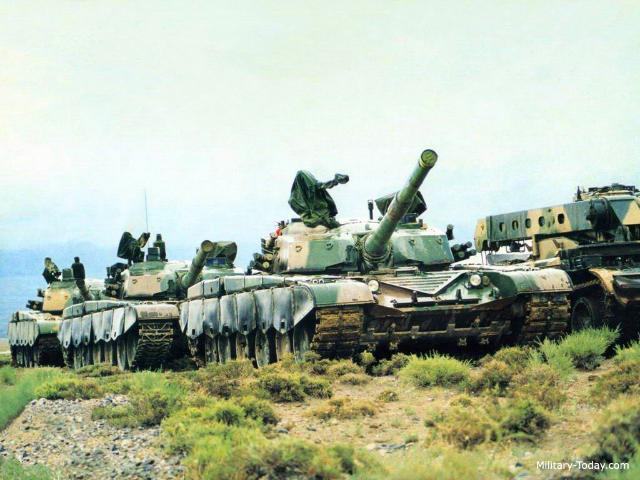tank: (198, 212, 558, 352), (69, 260, 185, 364), (12, 277, 80, 359)
